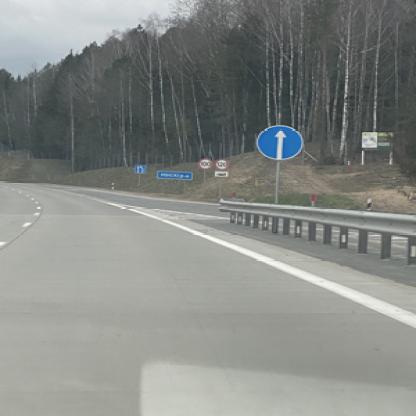speedlimit: (214, 158, 226, 169), (197, 157, 208, 167)
